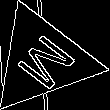M_SE: (7, 26, 79, 94)
